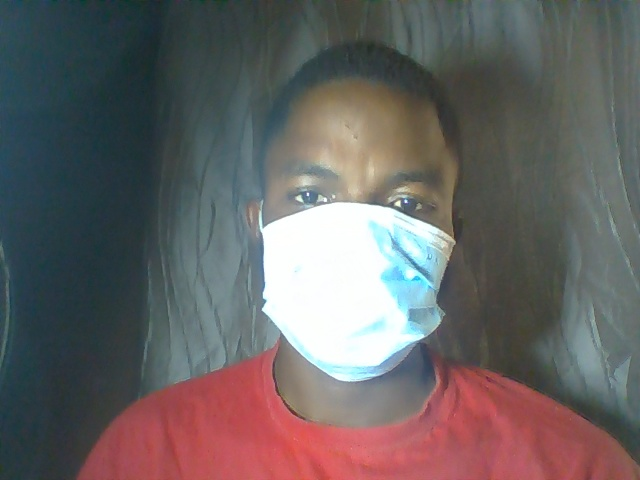MaskOn: (237, 40, 489, 386)
